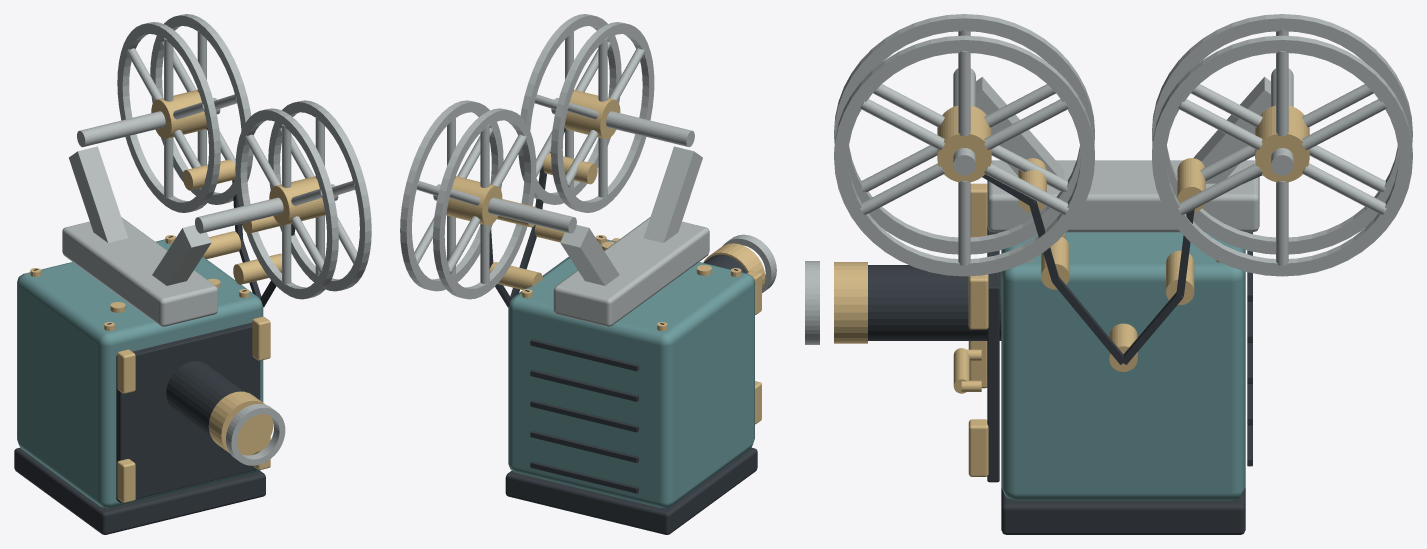
File: film-projector.glb
3 renders of one model, left to right at view 1: azimuth 30°, elevation 25°; view 2: azimuth 150°, elevation 25°; view 3: azimuth 270°, elevation 25°, orthographic. The views are drawn at different scales.
Parts seen in each view (by area): view 1: abandoned-cinema-and-projection-booth-film-projector; view 2: abandoned-cinema-and-projection-booth-film-projector; view 3: abandoned-cinema-and-projection-booth-film-projector.
Part boxes in pixels (x1,y1,x2,y2): abandoned-cinema-and-projection-booth-film-projector: [14, 14, 371, 534]; abandoned-cinema-and-projection-booth-film-projector: [400, 14, 776, 534]; abandoned-cinema-and-projection-booth-film-projector: [805, 14, 1412, 534].
Bounding box in the file's own units: 0.595 × 1.02 × 1.07.
